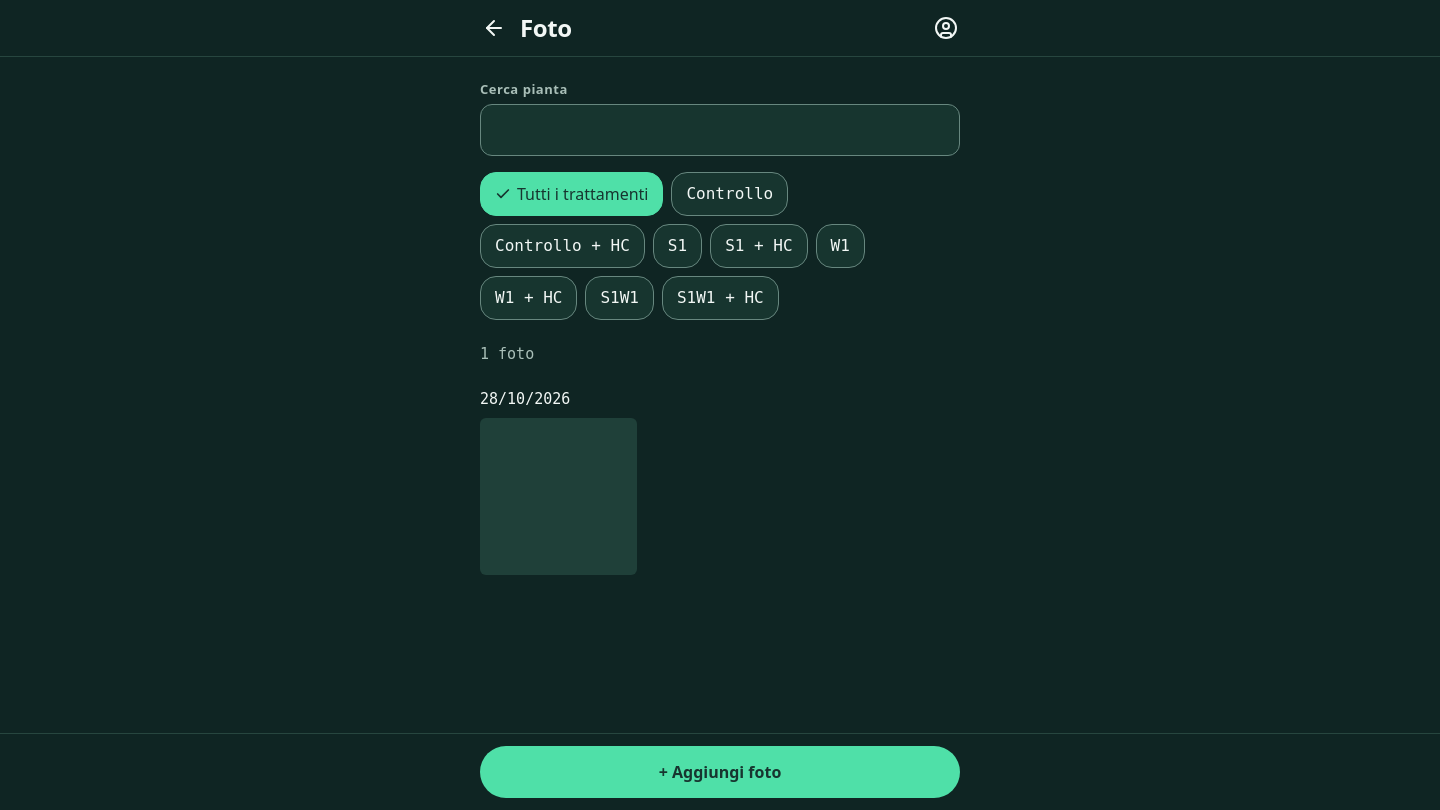
Test case: foto per ruolo › il rilevatore, foto mia: "Elimina foto" utente-io
Click the button named "28/10". click: x=559, y=497
box: [480,418,637,575]
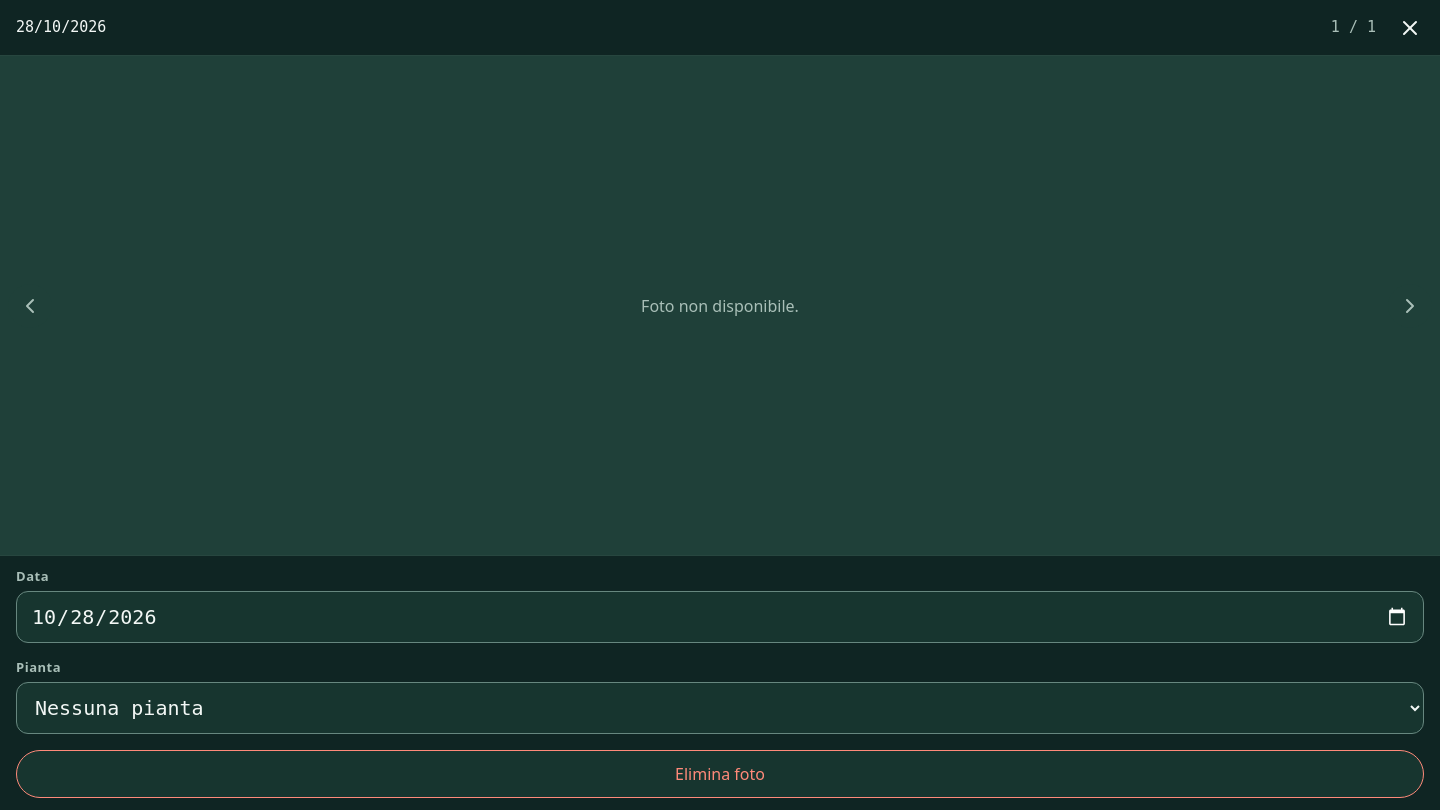
Expected: the date field labelled "Data" is shown, [16,591,1424,643]
Expected: the button "Elimina foto" is shown, [16,750,1424,798]
